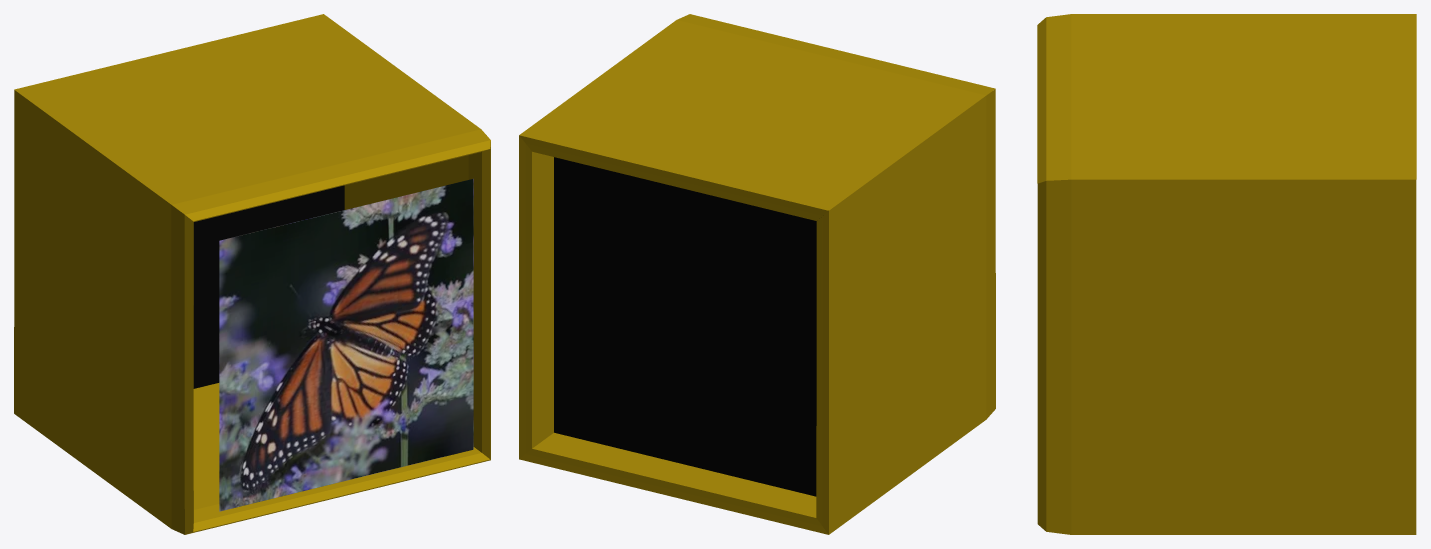
Rendered from sh-contrib-butterfly-frame.glb.
The picture shows the model from 3 angles, left to right: view 1: azimuth 30°, elevation 25°; view 2: azimuth 150°, elevation 25°; view 3: azimuth 270°, elevation 25°; orthographic projection. The views are drawn at different scales.
Parts seen in each view (by area): view 1: WoodFrame_Cylinder_Wood, Photo_Cube_Material_Butterfly.jpg, Frame_Black_Material.000; view 2: WoodFrame_Cylinder_Wood, Frame_Black_Material.000; view 3: WoodFrame_Cylinder_Wood.
Boxes of the visible parts, left/top/right/bottom form: WoodFrame_Cylinder_Wood: left=14, top=14, right=490, bottom=534; Photo_Cube_Material_Butterfly.jpg: left=219, top=178, right=473, bottom=511; Frame_Black_Material.000: left=193, top=185, right=344, bottom=388; WoodFrame_Cylinder_Wood: left=519, top=14, right=995, bottom=534; Frame_Black_Material.000: left=554, top=157, right=816, bottom=496; WoodFrame_Cylinder_Wood: left=1037, top=14, right=1416, bottom=534.
Bounding box in the file's own units: 1 × 1 × 1.
Materials: 3 (1 with a texture image).
